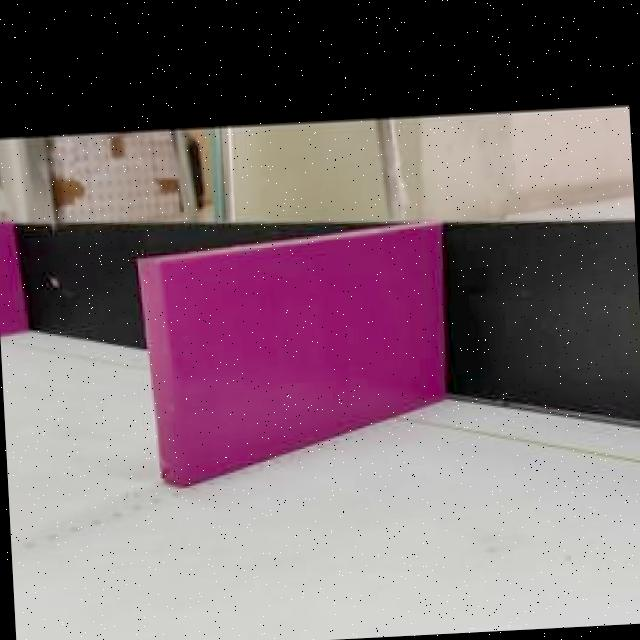xparking: (142, 246, 450, 469)
